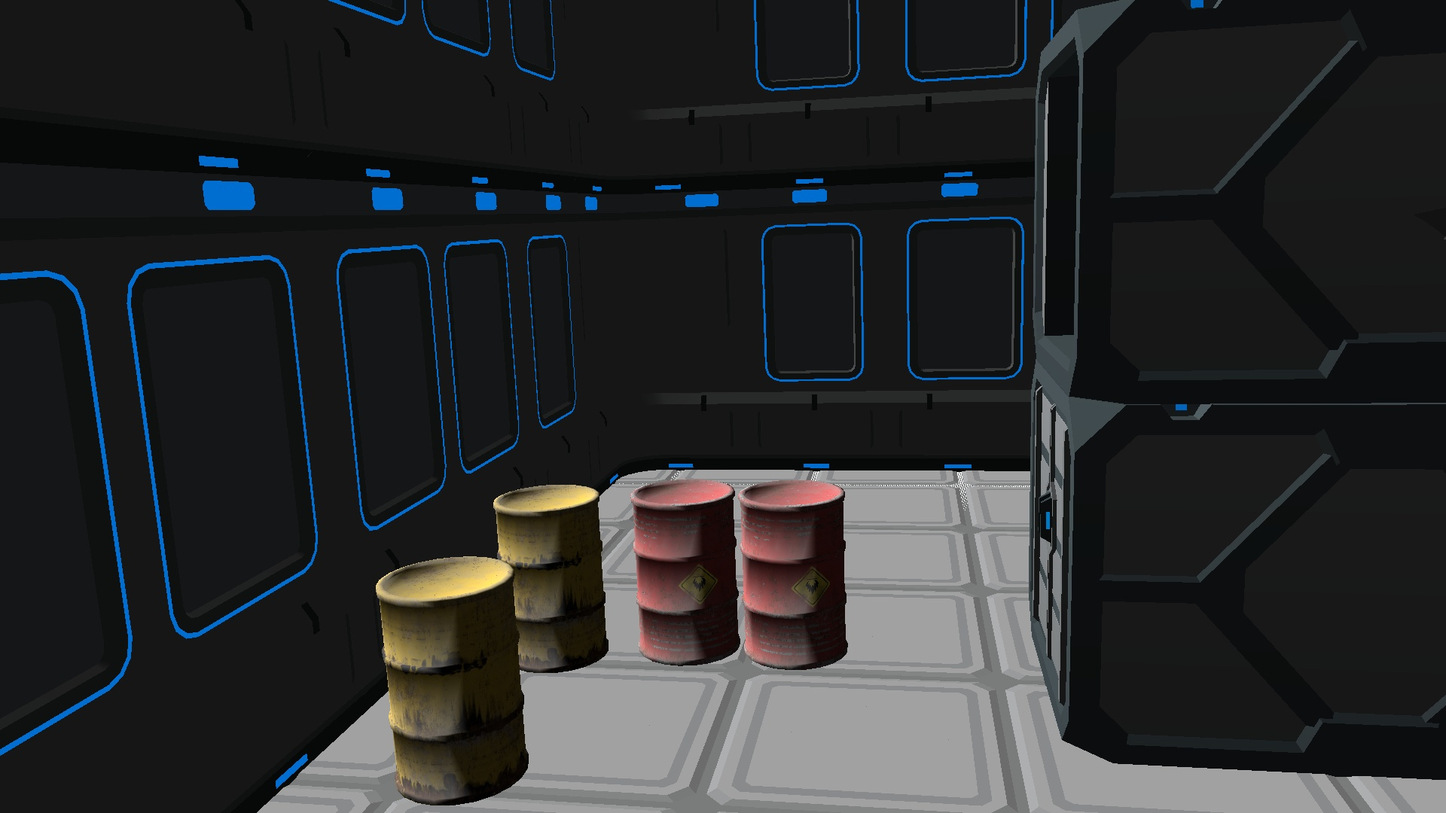toxic barrel: (375, 556, 529, 806), (493, 485, 609, 673), (629, 479, 741, 666), (738, 480, 848, 670)
